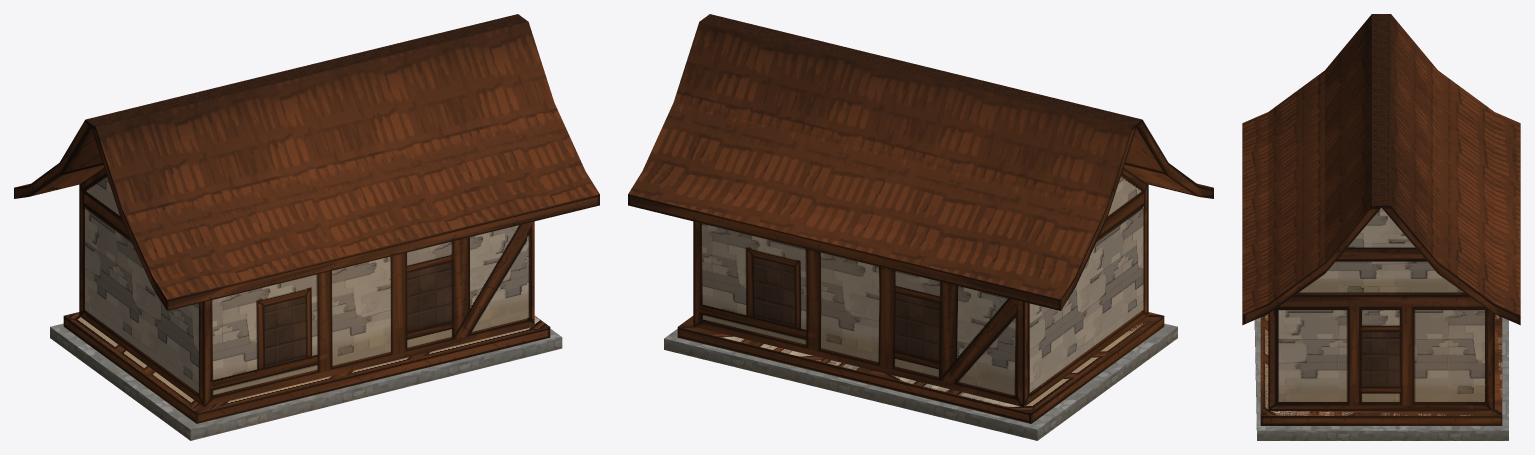
File: House Base1_C.fbx
3 views of the same model, side by side, from view 1: azimuth 30°, elevation 25°; view 2: azimuth 150°, elevation 25°; view 3: azimuth 270°, elevation 25° (orthographic). The views are drawn at different scales.
Parts seen in each view (by area): view 1: House Base 1c, House Base 1c_col; view 2: House Base 1c, House Base 1c_col; view 3: House Base 1c, House Base 1c_col.
Boxes of the visible parts, left/top/right/bottom form: House Base 1c: left=14, top=14, right=599, bottom=440; House Base 1c_col: left=65, top=168, right=549, bottom=412; House Base 1c: left=628, top=14, right=1213, bottom=440; House Base 1c_col: left=679, top=170, right=1163, bottom=412; House Base 1c: left=1242, top=14, right=1520, bottom=440; House Base 1c_col: left=1260, top=208, right=1502, bottom=415.
Bounding box in the file's own units: 1517 × 916 × 929.
